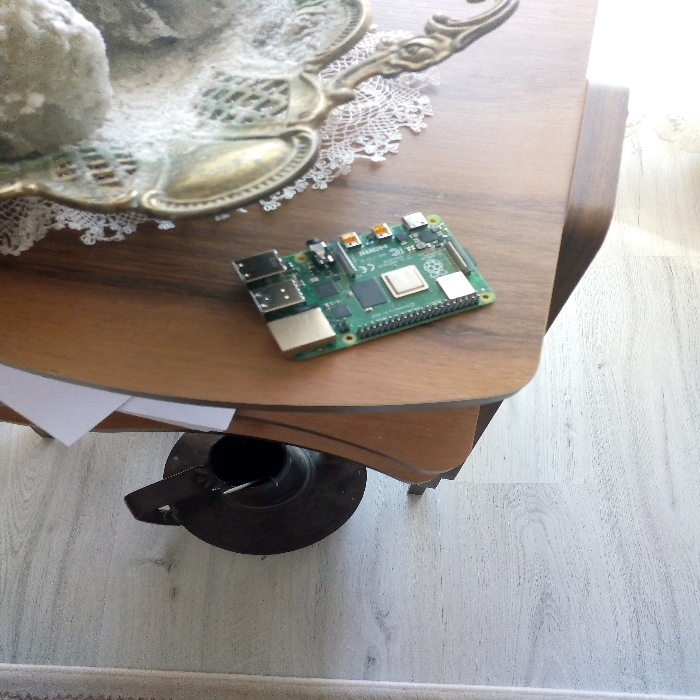raspberry: (229, 198, 489, 354)
